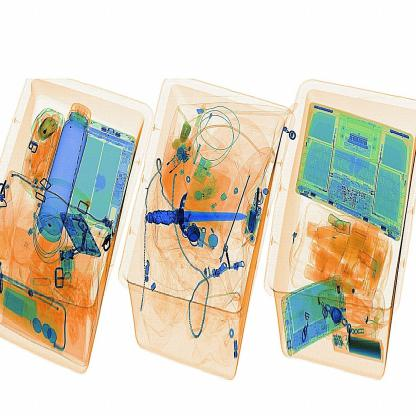wrench: (131, 189, 268, 242)
